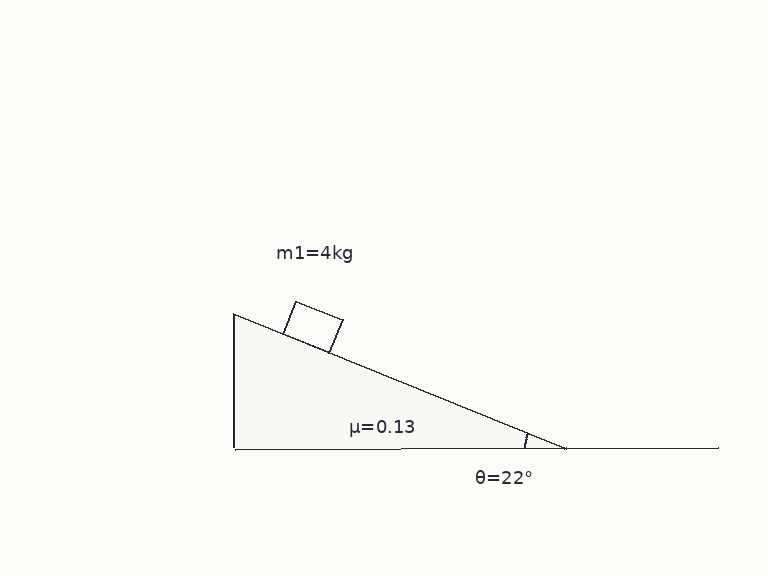block: (281, 299, 344, 354)
ramp: (231, 312, 567, 450)
